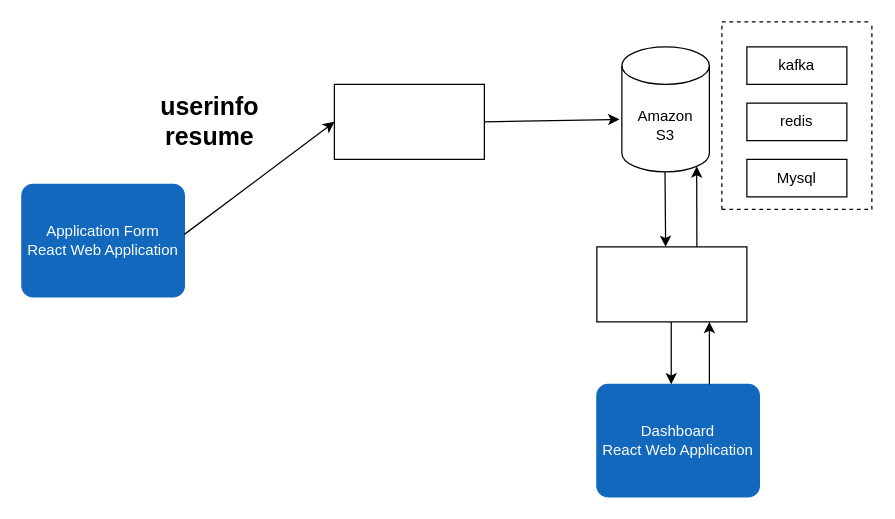
This 895x519 diagram has some shape labels left out. The centre of each missing label's shape, as x and y in pixels:
Java API Service(Auth, User): (671,284)
Java File Hosting API Service: (408,121)
